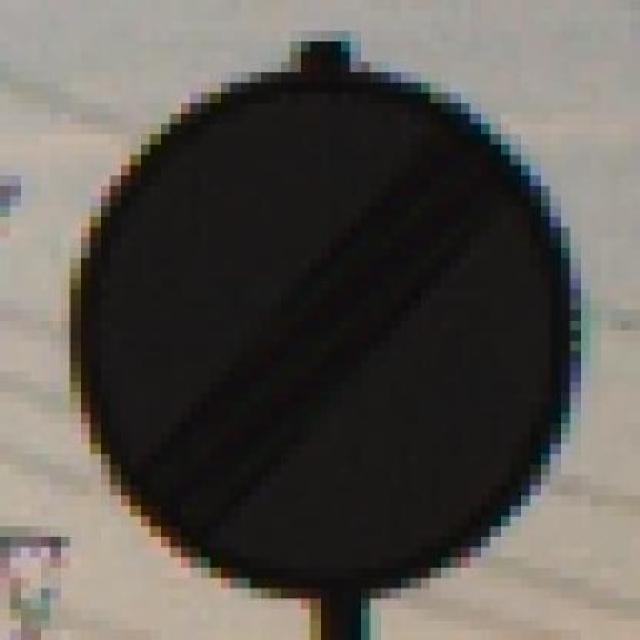End of all speed and passing limits: (30, 21, 610, 588)
